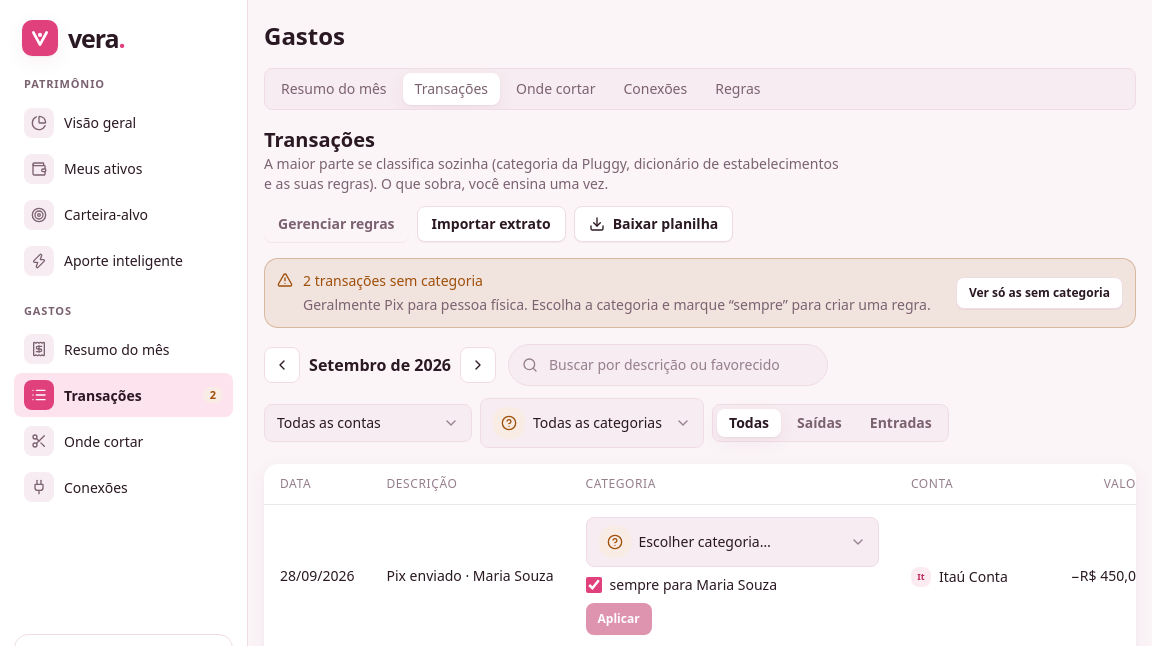
Test: /spending/transactions: filtros › "Sem categoria" no seletor vira uncategorized=true
The image size is (1152, 646).
Check: the element named "Mês" is shown, box 264,347 -> 496,383
Click the button with aria-label "Categoria: Todas as categorias".
click(592, 423)  # box 480,398 -> 704,448
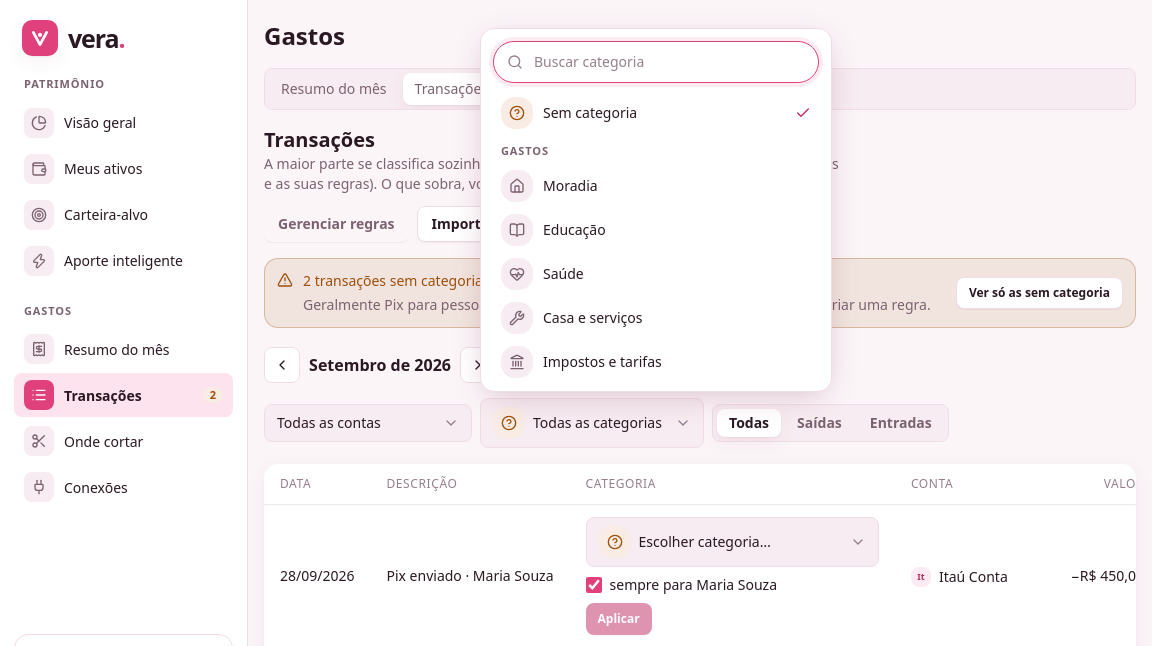
Click the option "Sem categoria".
click(517, 113)  # box 493,91 -> 819,135
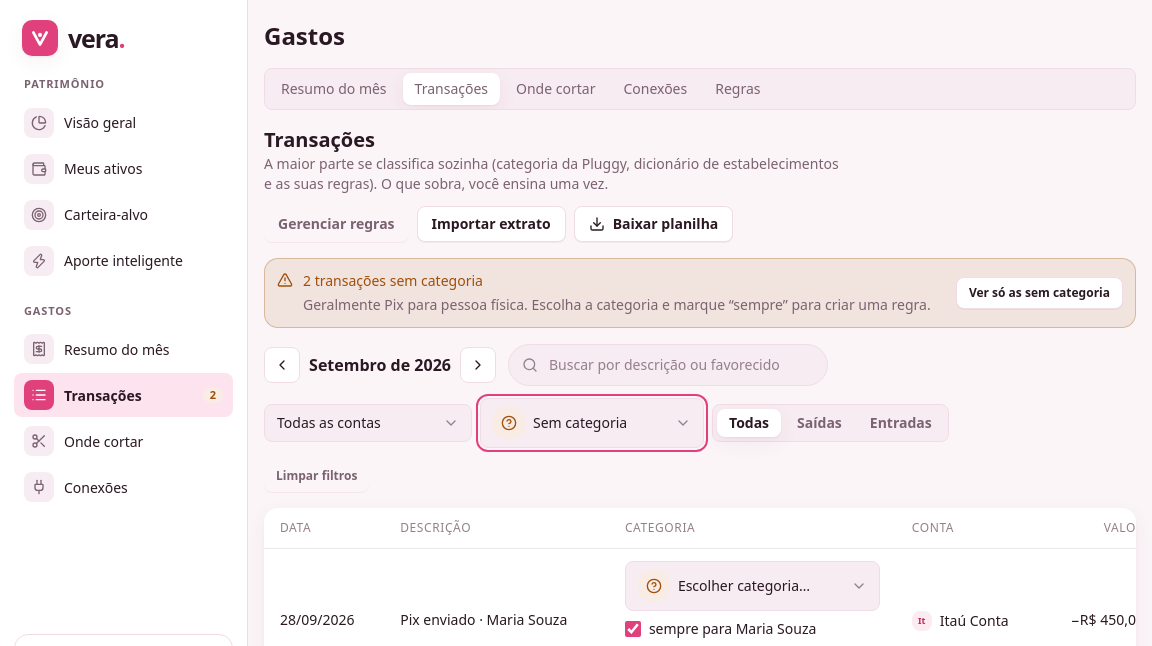
Check: the button with aria-label "Categoria: Sem categoria" is shown, box 480,398 -> 704,448
